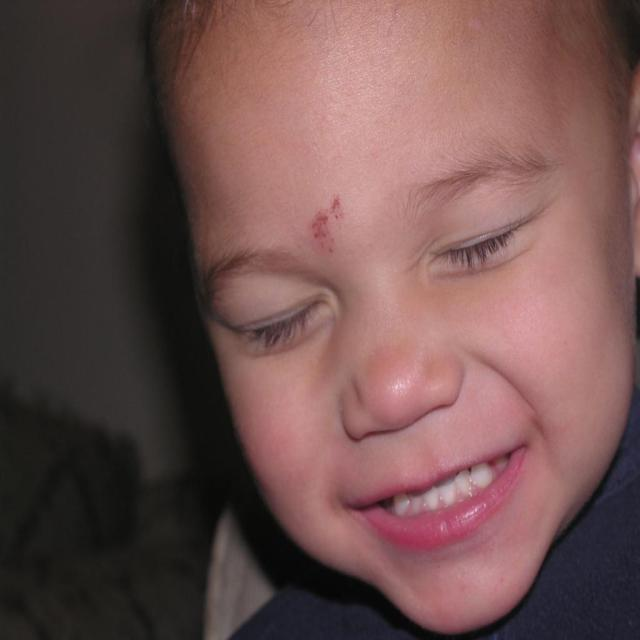Eyeclosed: (422, 215, 522, 281), (233, 291, 319, 361)
